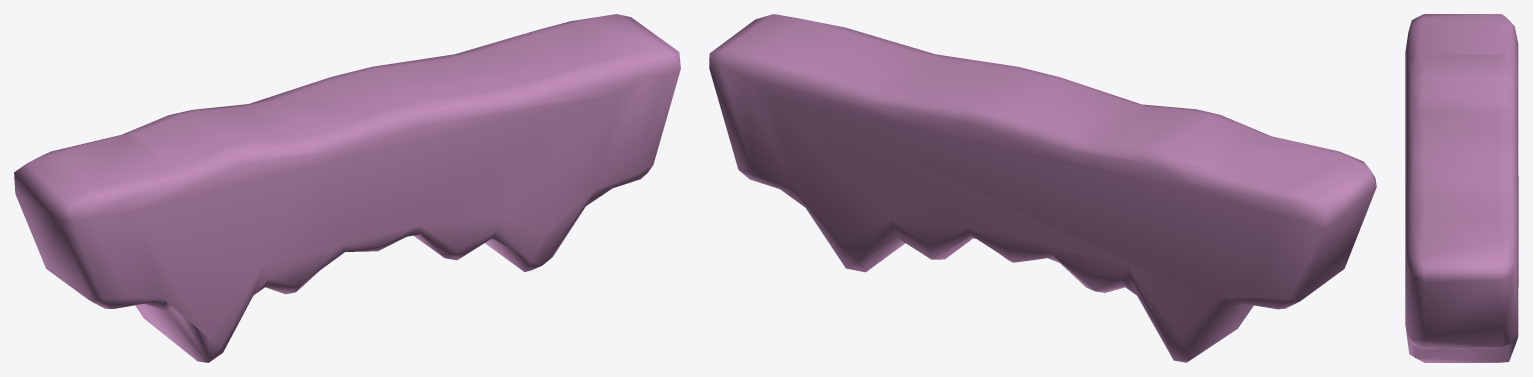
The picture shows the model from 3 angles, left to right: view 1: azimuth 30°, elevation 25°; view 2: azimuth 150°, elevation 25°; view 3: azimuth 270°, elevation 25°; orthographic projection. The views are drawn at different scales.
Parts seen in each view (by area): view 1: Cube.002; view 2: Cube.002; view 3: Cube.002.
Boxes of the visible parts, x1=… form: Cube.002: x1=14, y1=14, x2=680, y2=362; Cube.002: x1=709, y1=14, x2=1376, y2=362; Cube.002: x1=1405, y1=14, x2=1518, y2=362.
Size of the model in its own units: 344 by 111 by 63.71.
